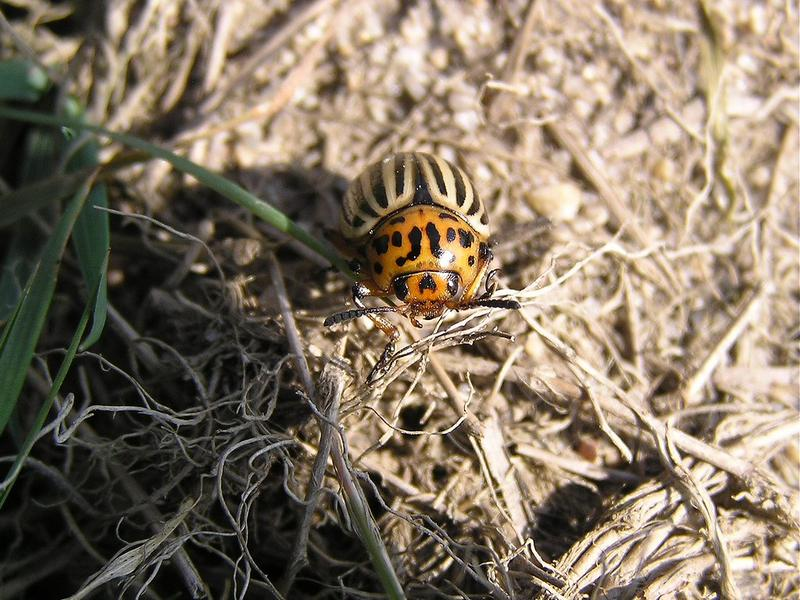hrosc: (329, 140, 492, 319)
